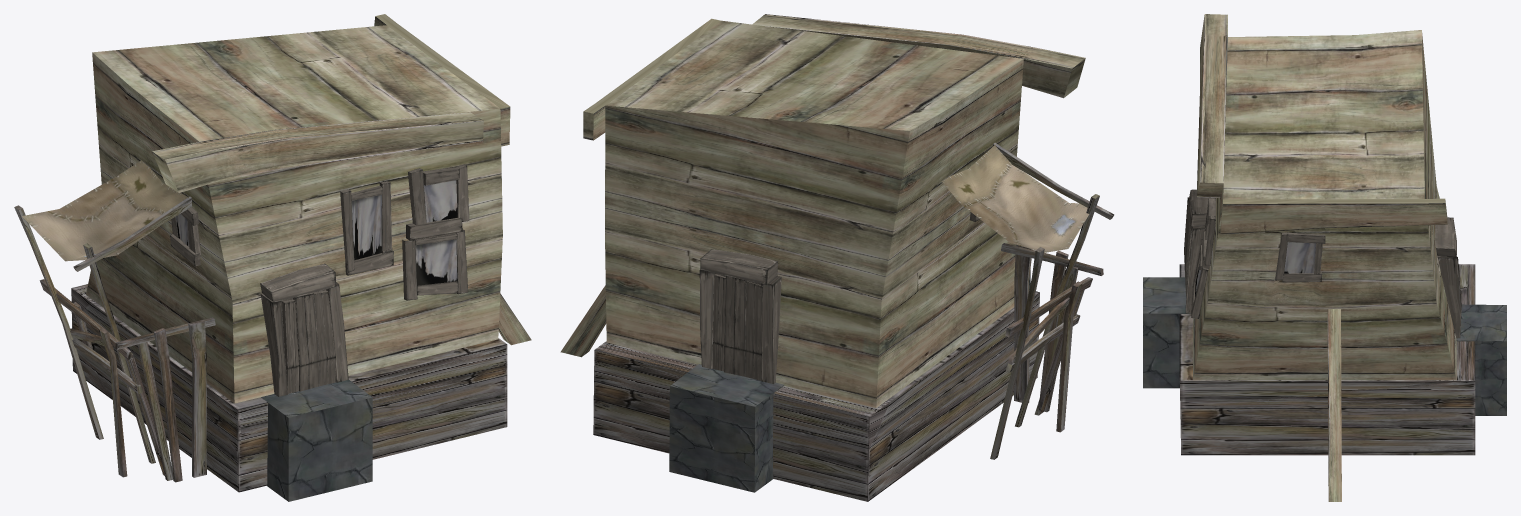
File: shanty_npc_house_combo_B.fbx
3 views of the same model, side by side, from view 1: azimuth 30°, elevation 25°; view 2: azimuth 150°, elevation 25°; view 3: azimuth 270°, elevation 25° (orthographic). The views are drawn at different scales.
Parts seen in each view (by area): view 1: shanty_tavern_polySurface147, polySurface382, polySurface143, step, canvas1, door_left, canvas, fence_post6, polySurface383, door_frame_1, win_certurn.004, win_certurn.001 (+23 smaller); view 2: shanty_tavern_polySurface147, polySurface382, polySurface380, canvas1, polySurface143, door_left_2, polySurface383, polySurface381, canvas, polySurface145, door_frame_3.001, door_frame_1.001 (+12 smaller); view 3: shanty_tavern_polySurface147, polySurface382, polySurface145, polySurface143, step, polySurface383, pasted__support_geo2, polySurface380, polySurface381, door_frame_2.001, win_certurn.002, door_frame_2 (+3 smaller).
Boxes of the visible parts, left/top/right/bottom form: shanty_tavern_polySurface147: left=86, top=25, right=502, bottom=403; polySurface382: left=71, top=288, right=507, bottom=492; polySurface143: left=152, top=112, right=483, bottom=192; step: left=261, top=380, right=372, bottom=501; canvas1: left=60, top=160, right=188, bottom=261; door_left: left=282, top=290, right=335, bottom=393; canvas: left=22, top=161, right=160, bottom=261; fence_post6: left=188, top=320, right=206, bottom=477; polySurface383: left=71, top=284, right=506, bottom=409; door_frame_1: left=260, top=263, right=336, bottom=301; win_certurn.004: left=351, top=195, right=381, bottom=260; win_certurn.001: left=415, top=239, right=457, bottom=286; shanty_tavern_polySurface147: left=605, top=20, right=1023, bottom=407; polySurface382: left=593, top=292, right=1039, bottom=501; polySurface380: left=669, top=385, right=784, bottom=492; canvas1: left=942, top=144, right=1089, bottom=248; polySurface143: left=752, top=14, right=1085, bottom=98; door_left_2: left=713, top=274, right=762, bottom=380; polySurface383: left=594, top=290, right=1039, bottom=416; polySurface381: left=670, top=364, right=783, bottom=406; canvas: left=943, top=168, right=1086, bottom=252; polySurface145: left=583, top=18, right=720, bottom=140; door_frame_3.001: left=700, top=249, right=777, bottom=284; door_frame_1.001: left=761, top=276, right=781, bottom=383; shanty_tavern_polySurface147: left=1193, top=30, right=1456, bottom=380; polySurface382: left=1179, top=381, right=1475, bottom=455; polySurface145: left=1220, top=198, right=1447, bottom=234; polySurface143: left=1196, top=14, right=1227, bottom=197; step: left=1143, top=277, right=1190, bottom=388; polySurface383: left=1179, top=264, right=1475, bottom=380; pasted__support_geo2: left=1327, top=309, right=1341, bottom=501; polySurface380: left=1456, top=340, right=1506, bottom=415; polySurface381: left=1456, top=304, right=1506, bottom=341; door_frame_2.001: left=1437, top=256, right=1461, bottom=338; win_certurn.002: left=1284, top=242, right=1315, bottom=273; door_frame_2: left=1185, top=226, right=1204, bottom=313.
Size of the model in its own units: 4957 by 3290 by 3556.
Materials: 3 (3 with a texture image).
